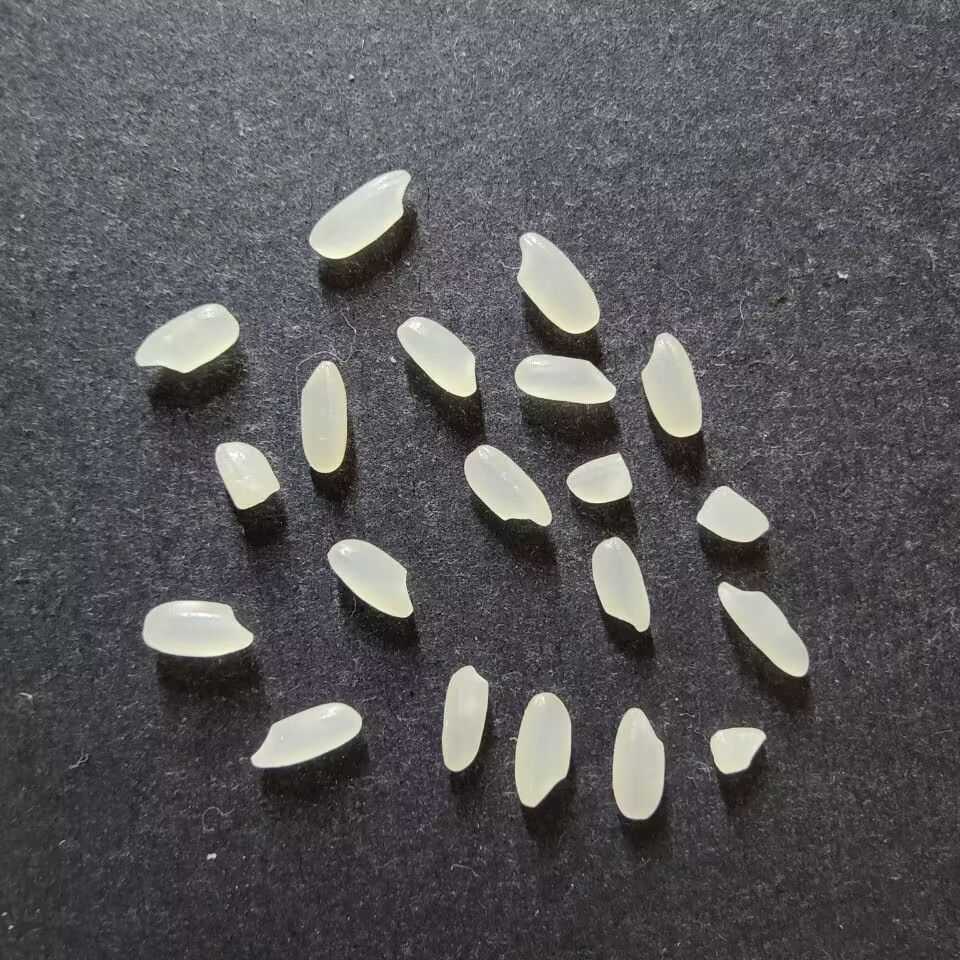broken: (214, 441, 280, 510), (695, 484, 769, 543), (565, 451, 632, 504), (709, 726, 766, 774)
rice: (307, 167, 410, 260), (716, 581, 810, 677), (516, 232, 599, 334), (134, 302, 239, 373), (250, 702, 362, 768), (463, 443, 552, 526), (326, 539, 413, 618), (513, 691, 571, 807), (396, 316, 476, 398), (640, 332, 702, 437), (142, 600, 254, 657), (611, 707, 665, 819), (591, 537, 650, 632), (299, 359, 348, 473), (514, 353, 616, 404), (441, 664, 489, 771)
